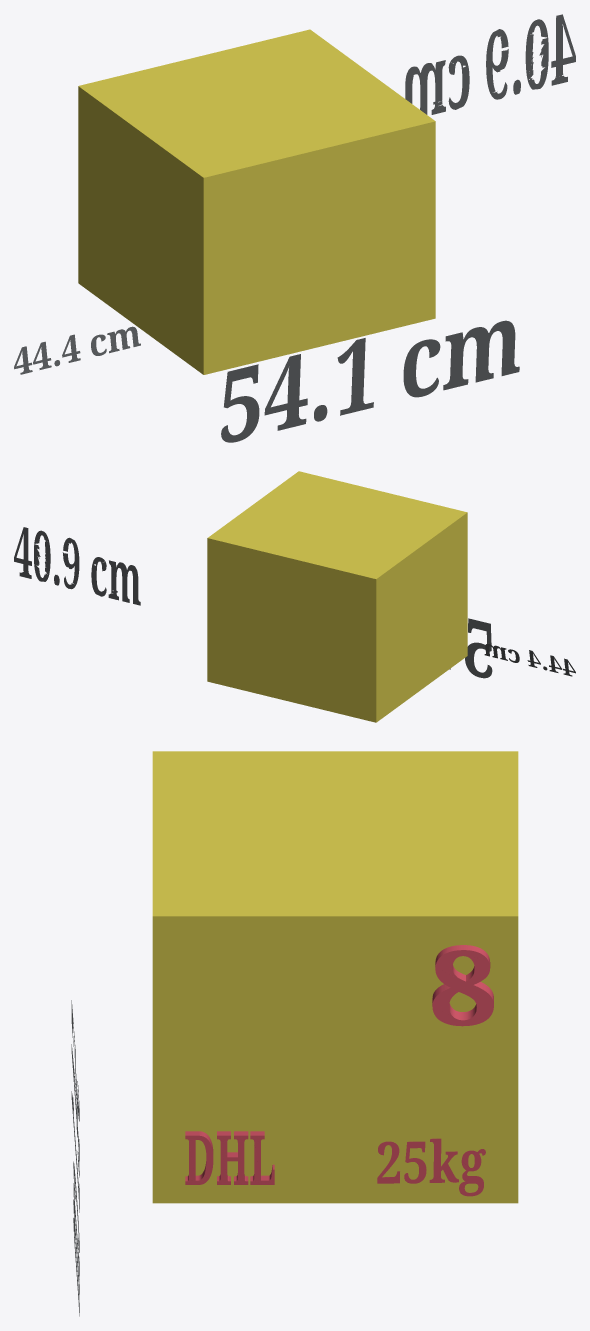
Rendered from caja i.glb.
3 renders of one model, top to bottom at view 1: azimuth 30°, elevation 25°; view 2: azimuth 150°, elevation 25°; view 3: azimuth 270°, elevation 25°, orthographic. The views are drawn at different scales.
Visible parts, largest first — view 1: Mesh_Mesh_head_geo.001_lambert2SG.001; view 2: Mesh_Mesh_head_geo.001_lambert2SG.001; view 3: Mesh_Mesh_head_geo.001_lambert2SG.001.
Part boxes in pixels (box(x1,y1,x2,y2)): Mesh_Mesh_head_geo.001_lambert2SG.001: box(14, 14, 575, 442); Mesh_Mesh_head_geo.001_lambert2SG.001: box(14, 471, 575, 722); Mesh_Mesh_head_geo.001_lambert2SG.001: box(71, 751, 518, 1316).
Size of the model in its own units: 138 by 48.93 by 55.
